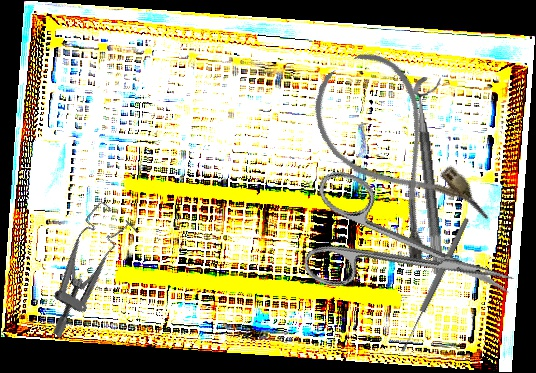Cannula: (295, 39, 494, 271)
Fixation Ring: (411, 75, 462, 274)
Iris Scissors: (289, 166, 530, 342)
Speculum: (16, 199, 147, 340)
Surgical Spoon: (398, 216, 471, 354)
